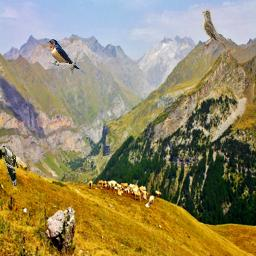Cuckoo: (3, 146, 18, 186)
Sparrow: (201, 9, 226, 49)
Swallow: (47, 39, 87, 74)
